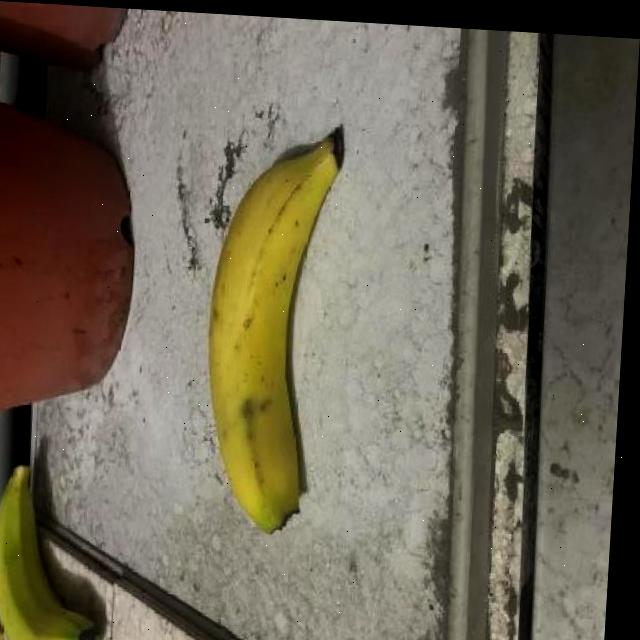banana: (194, 117, 343, 540)
